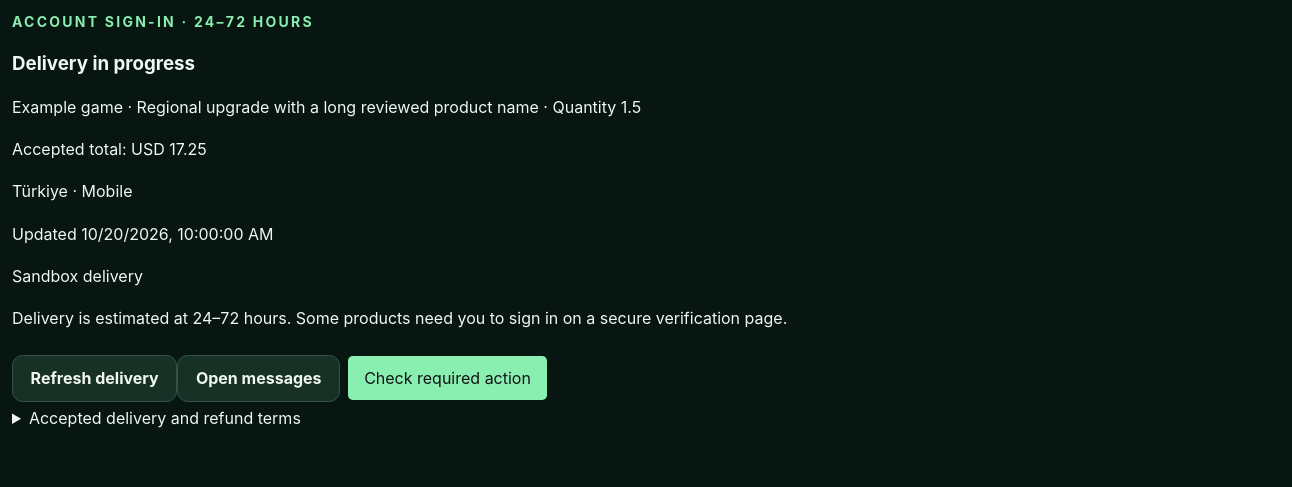
Test: exposes verification errors with a useful retry and rejects foreign handoff URLs
Click the button "Check required action" at (448, 378), box [348,356,547,400]
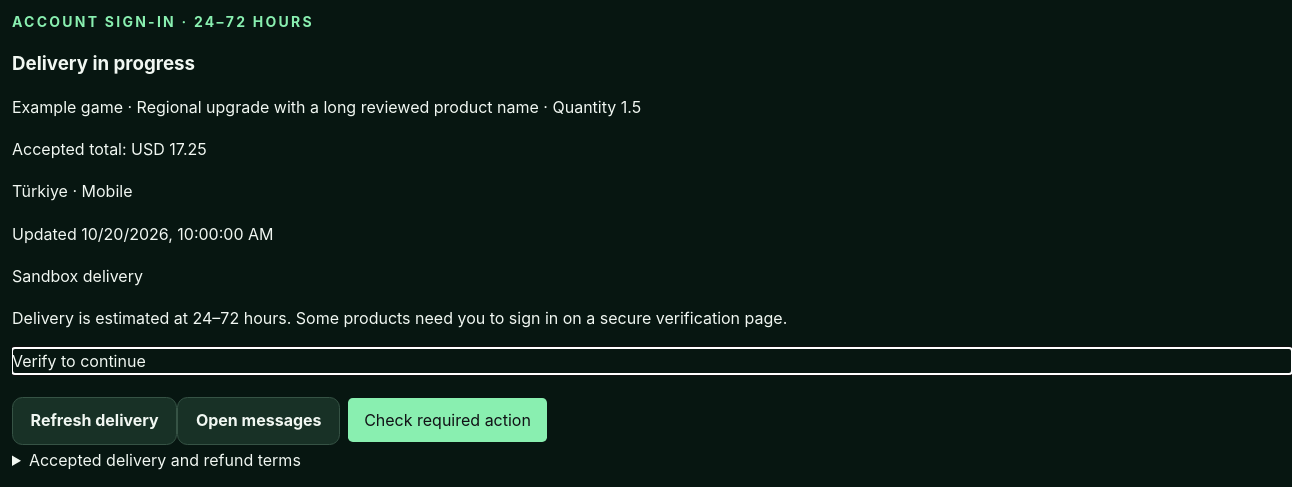
Expected: the button "Check required action" is enabled, [348,398,547,442]
Result: the message "Verify to continue" is shown at [12,351,146,371]
